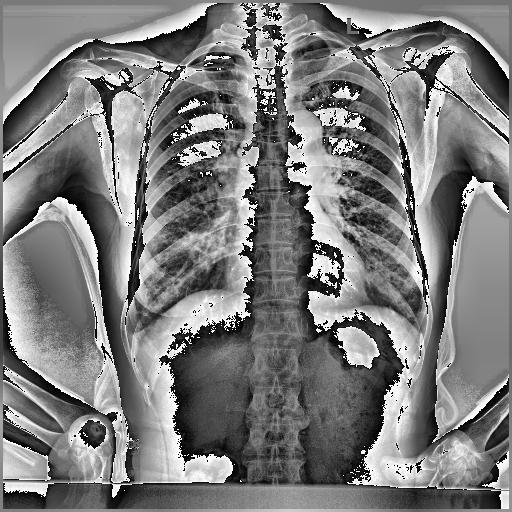0- Aortic enlargement: (280, 110, 326, 172), (276, 110, 324, 158)
10- Pleural effusion: (118, 324, 147, 344)
11- Pleural thickening: (118, 324, 147, 344)
13- Pulmonary fibrosis: (132, 214, 218, 319)
2- Calcification: (238, 122, 262, 156)
5- ILD: (320, 141, 420, 316), (144, 129, 240, 309), (132, 214, 218, 319)
6- Infiltration: (320, 141, 420, 316), (144, 129, 240, 309)
9- Other lesion: (132, 214, 218, 319)
